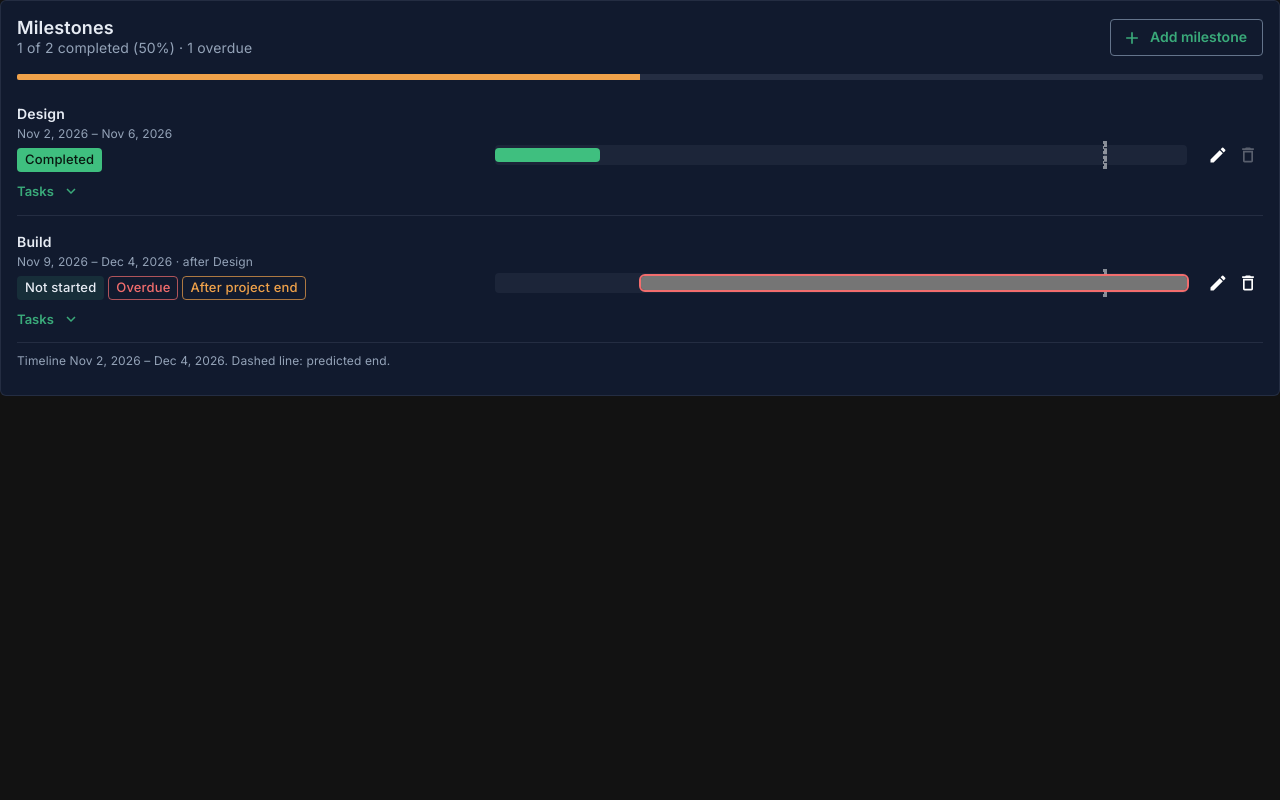
MilestonesSection › deletes after confirmation
The width and height of the screenshot is (1280, 800).
Click the button named "Delete Build": coordinates (1248, 283) [1233,268,1263,298]
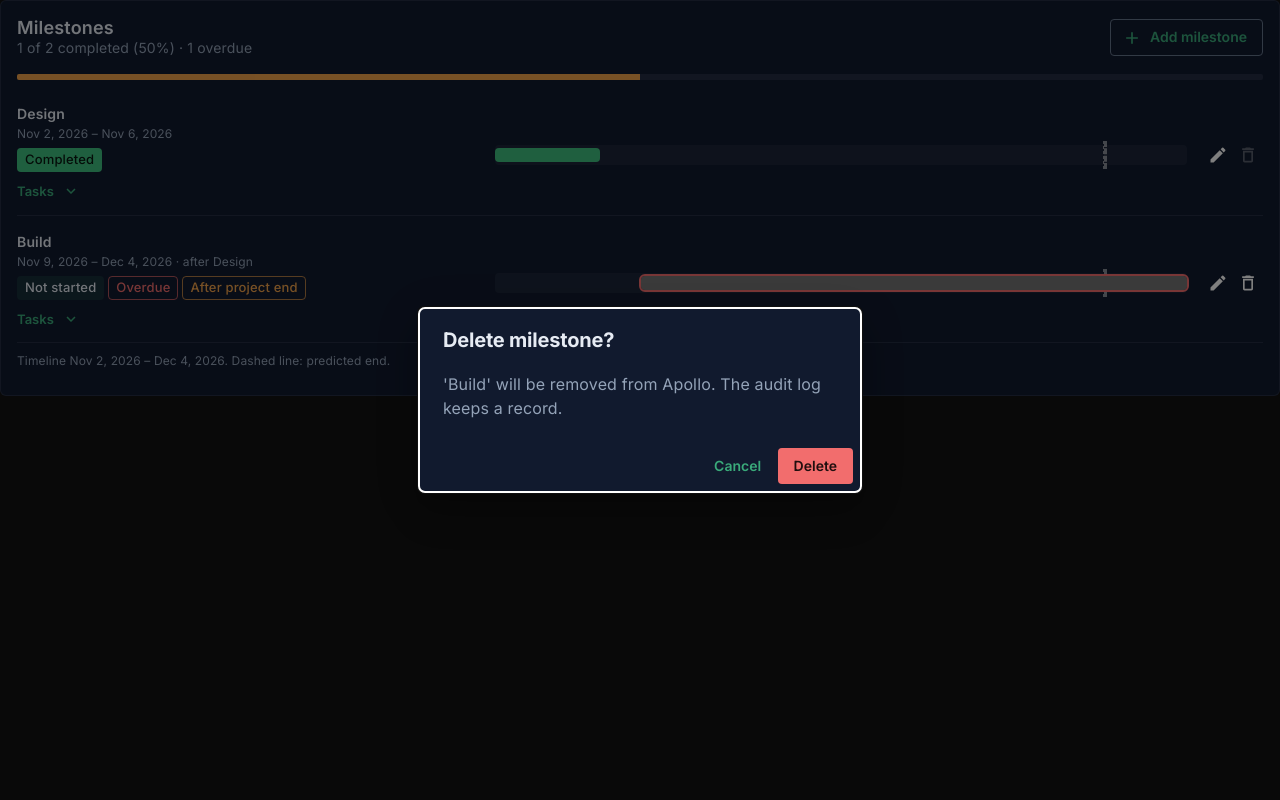
Click the button "Delete": coordinates (815, 466) [778,448,853,484]
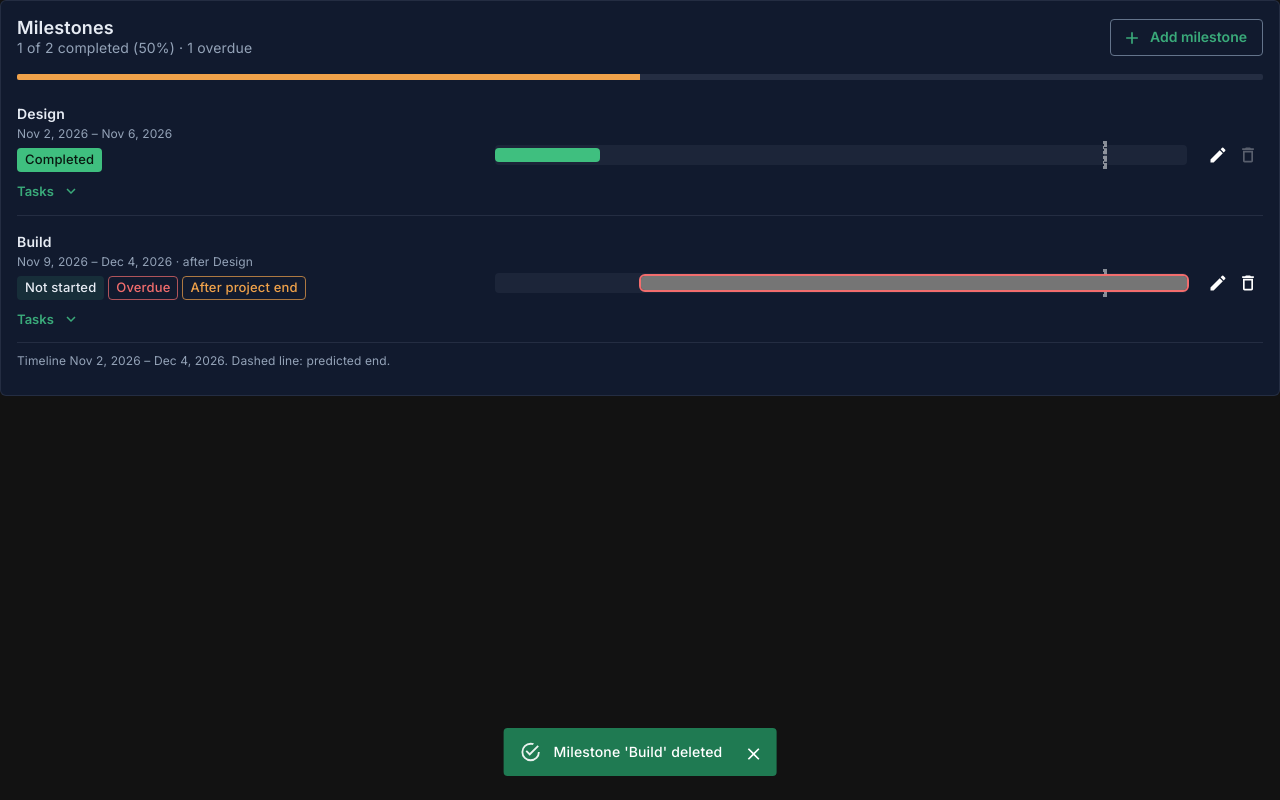
Now the text "Milestone 'Build' deleted" is shown, box [554,743,722,760]
